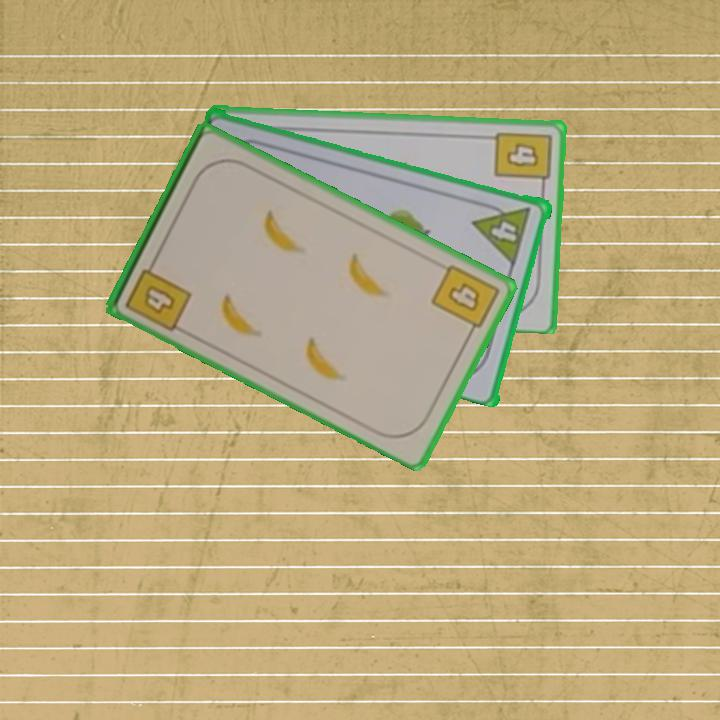4b: (428, 260, 503, 340), (122, 254, 195, 335), (491, 128, 554, 192)
4p: (471, 216, 523, 266)
